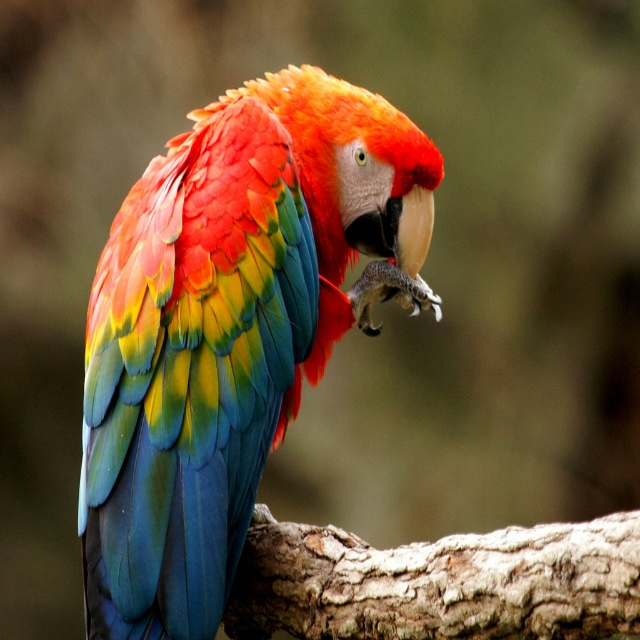Parrot: (83, 63, 448, 638)
